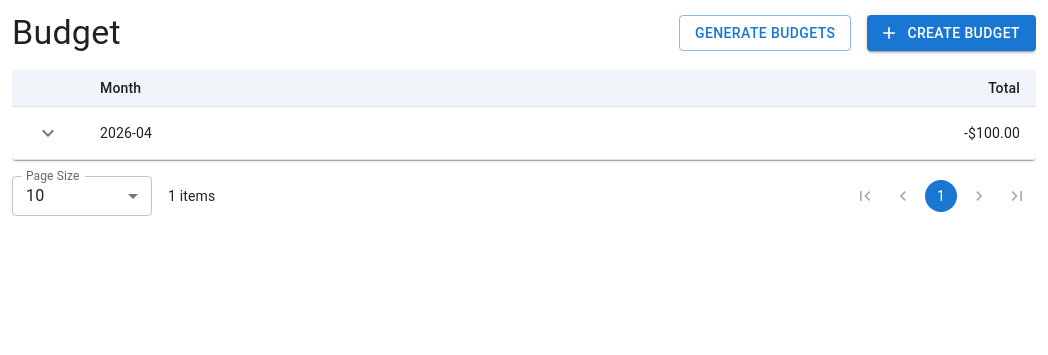
BudgetListPage › expands a month and shows budget details
The width and height of the screenshot is (1048, 355).
Click the button named "Expand row" at (48, 133), box [28,113,68,153]
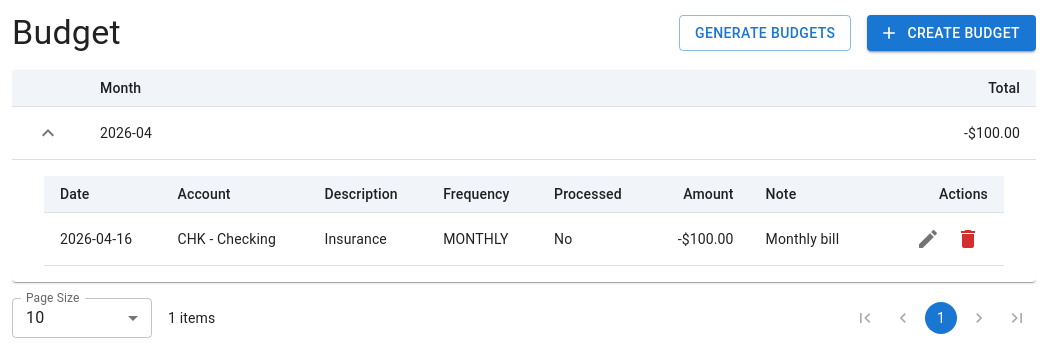
Expected: the text "Insurance" is shown, [308,212,427,266]
Expected: the text "CHK - Checking" is shown, [161,212,308,266]
Expected: the text "MONTHLY" is shown, [427,212,538,266]
